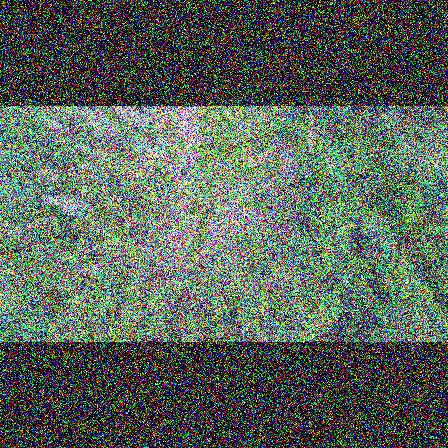Dead: (80, 111, 129, 149), (110, 105, 150, 139), (37, 191, 85, 210), (75, 141, 109, 160), (60, 203, 101, 218), (78, 261, 109, 276), (87, 174, 113, 189), (78, 161, 98, 172)
